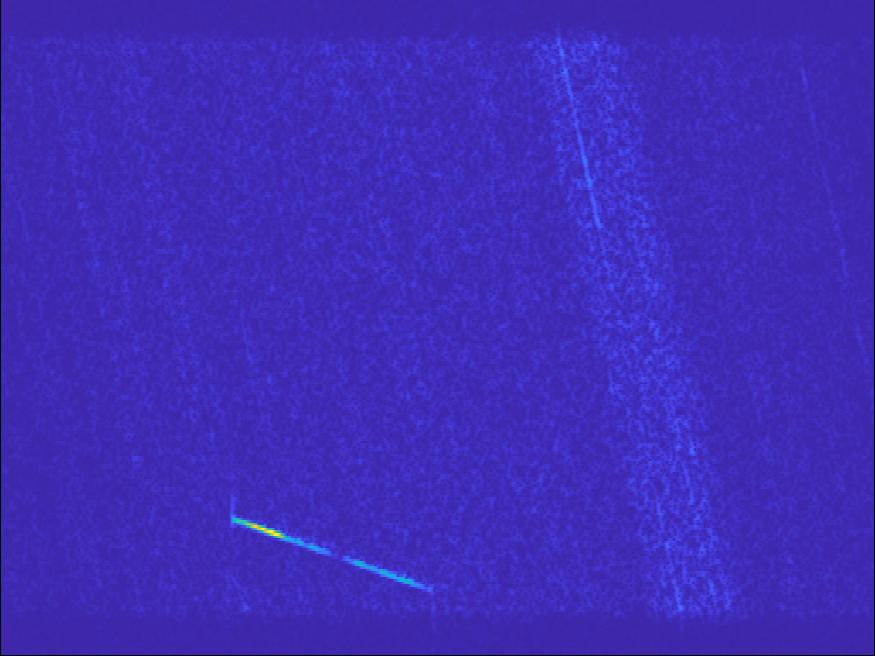Interference: (490, 1, 653, 126), (605, 297, 733, 360), (247, 2, 335, 52)
